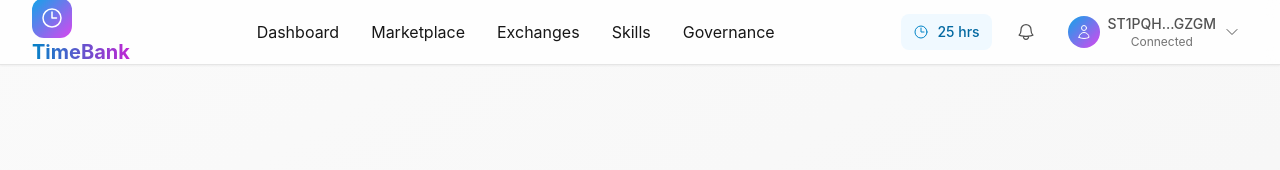
Header Component › Connected State › should toggle profile dropdown when profile button is clicked
Expected: the text "Profile" is not shown
# Click to open
Click the button "ST1PQH...GZGM Connected".
click(1154, 32)  # box left=1060, top=6, right=1248, bottom=58
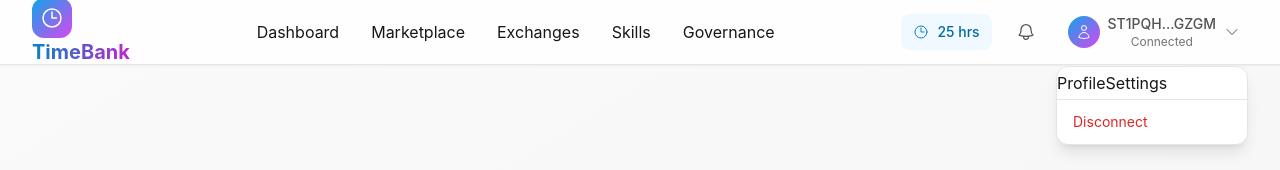
Expected: the link "Profile" is shown, left=1057, top=73, right=1106, bottom=93
Expected: the link "Settings" is shown, left=1106, top=73, right=1167, bottom=93
Expected: the button "Disconnect" is shown, left=1057, top=104, right=1247, bottom=140
